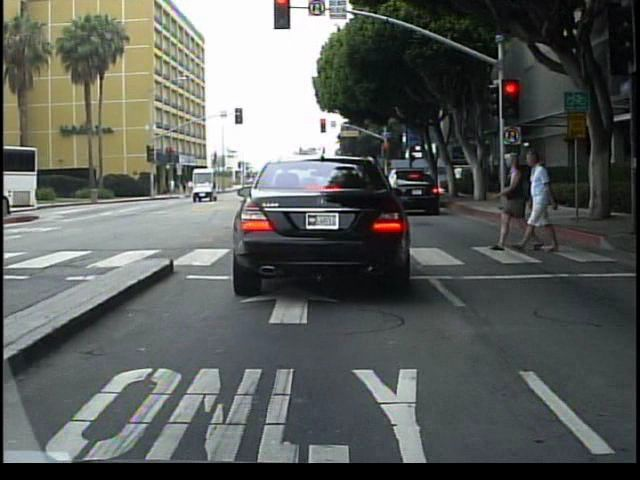person: (526, 143, 565, 257), (497, 150, 530, 258)
